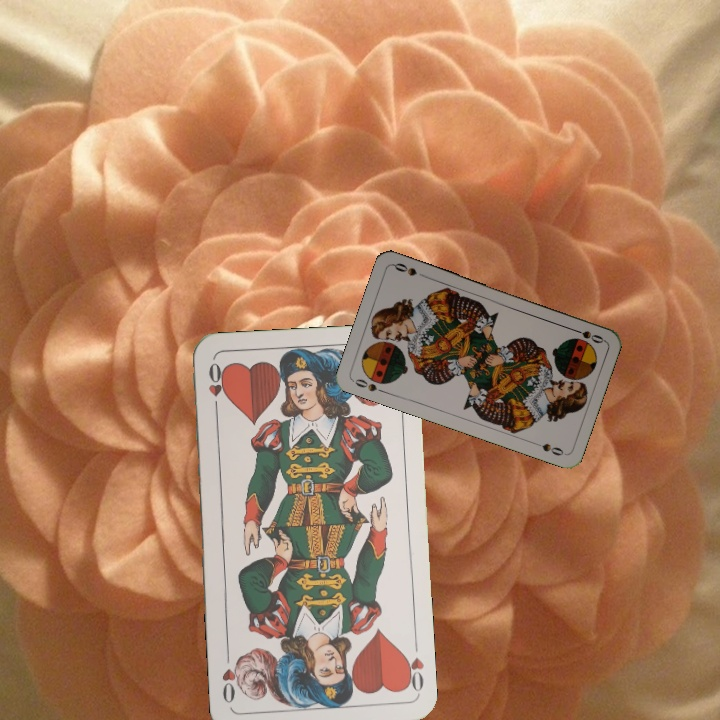HO: (205, 359, 226, 417), (400, 650, 426, 696)
SO: (567, 324, 606, 346), (349, 375, 388, 396)
